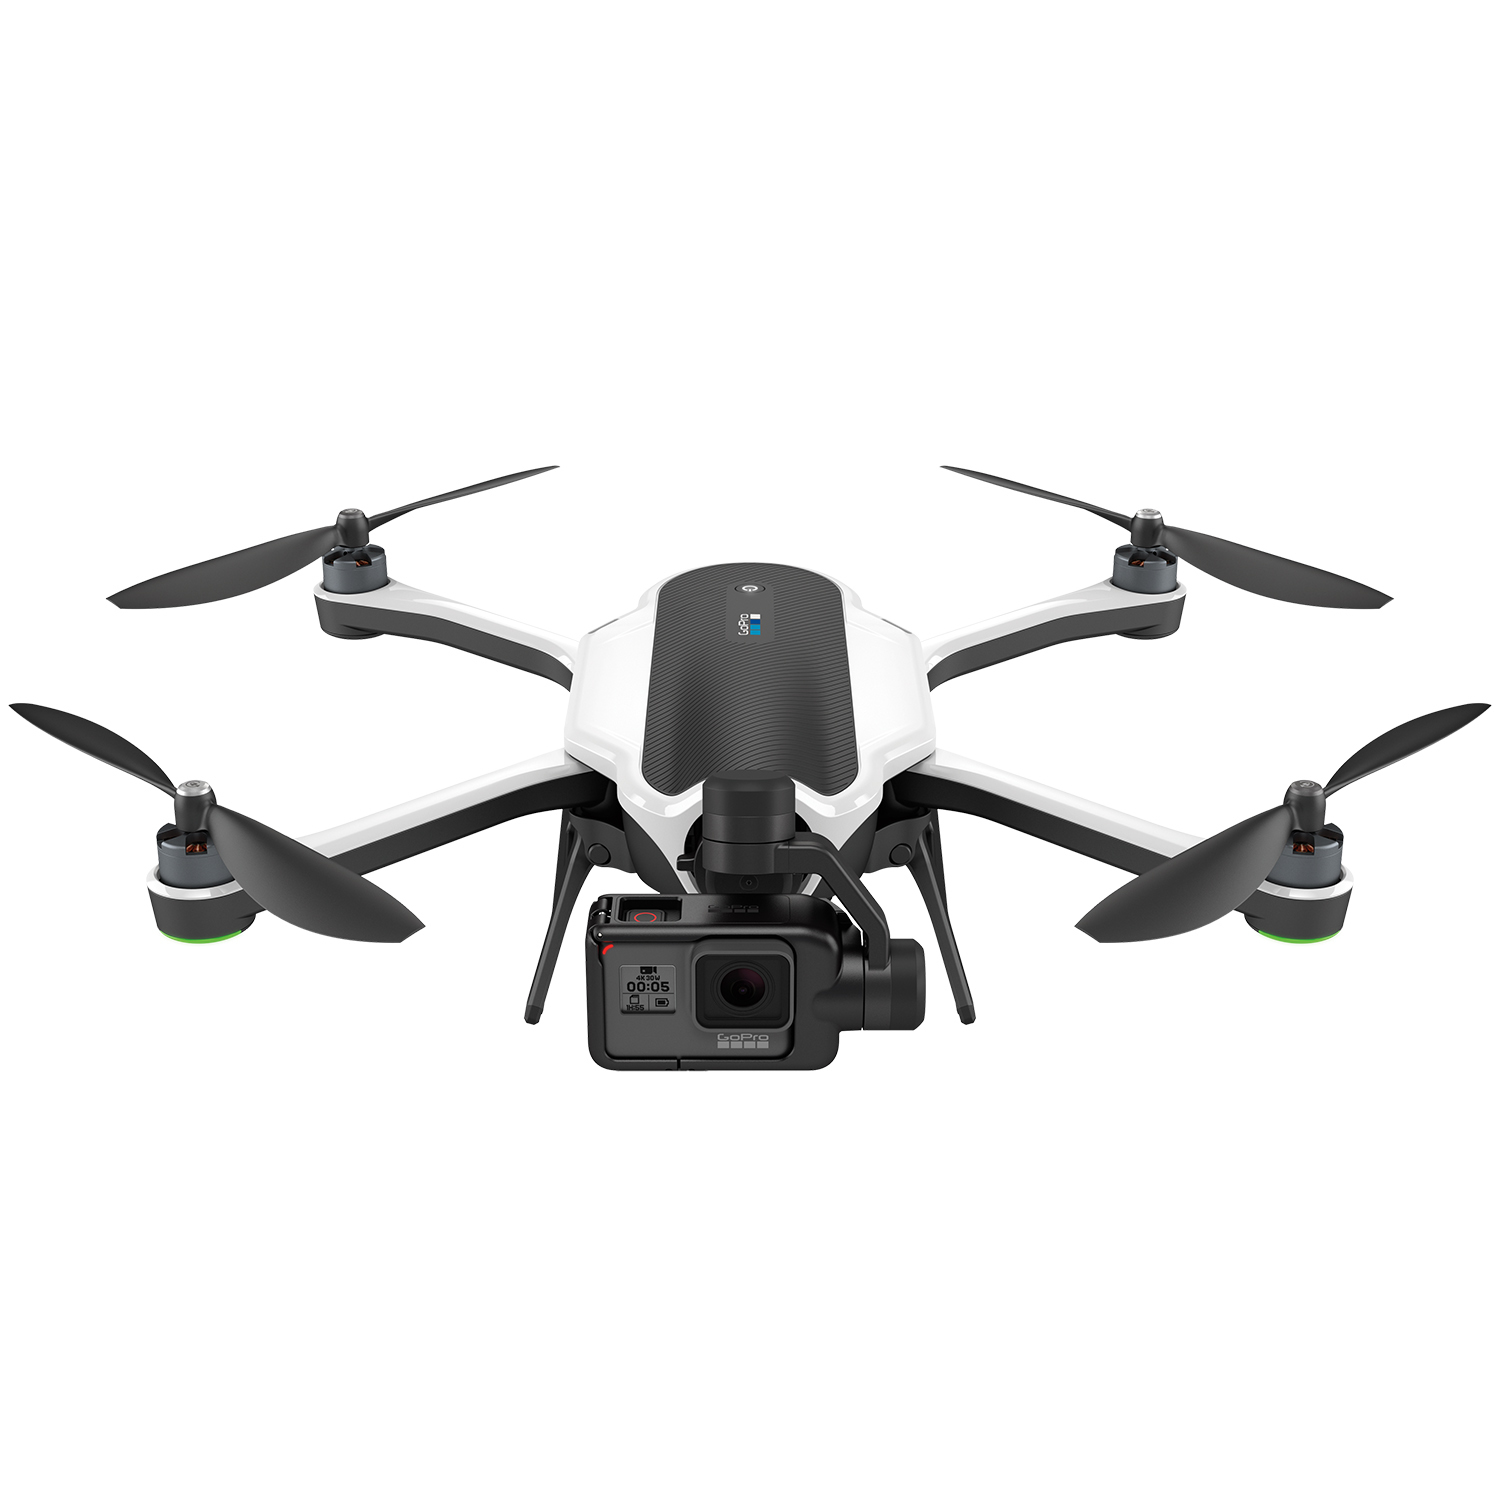drone: (12, 456, 1489, 1082)
